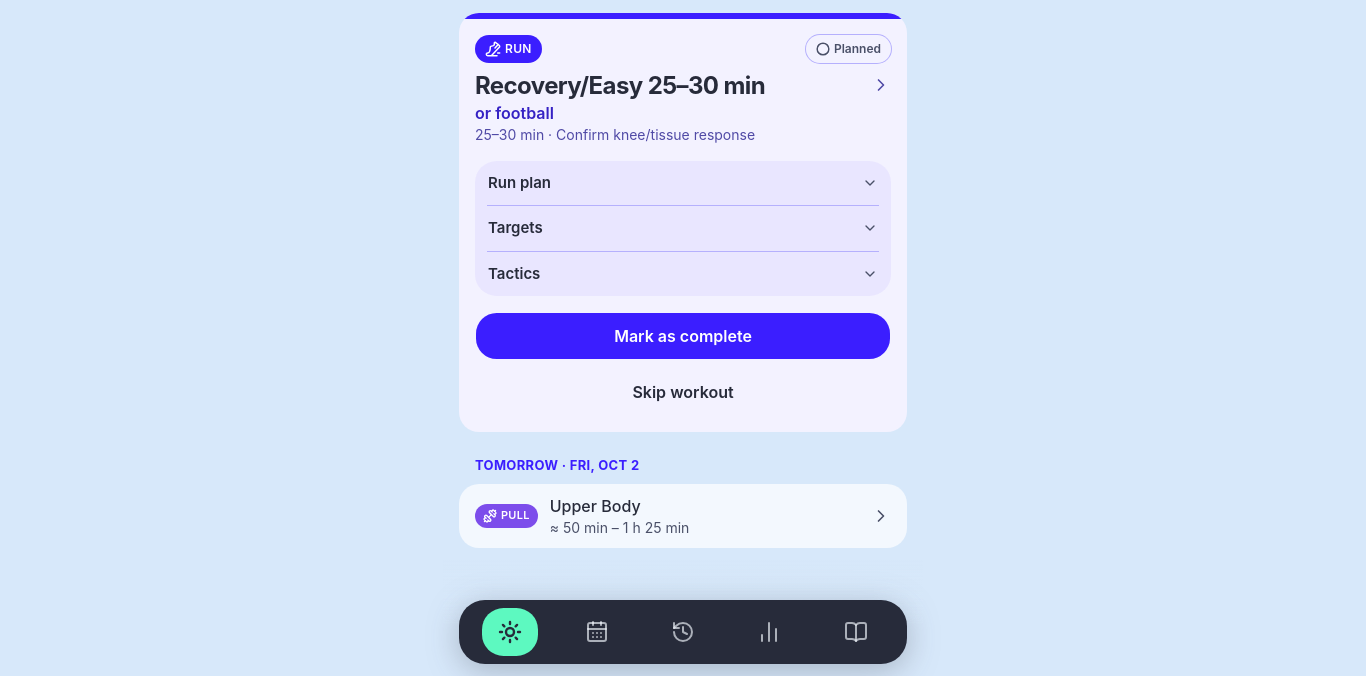
Test case: Today › records football from the Thursday run form and shows the run as replaced
(page scrolled)
Click the button "Mark as complete" below "25–30 min · Confirm knee/tissue response".
click(683, 336)  # box [475,312,891,360]
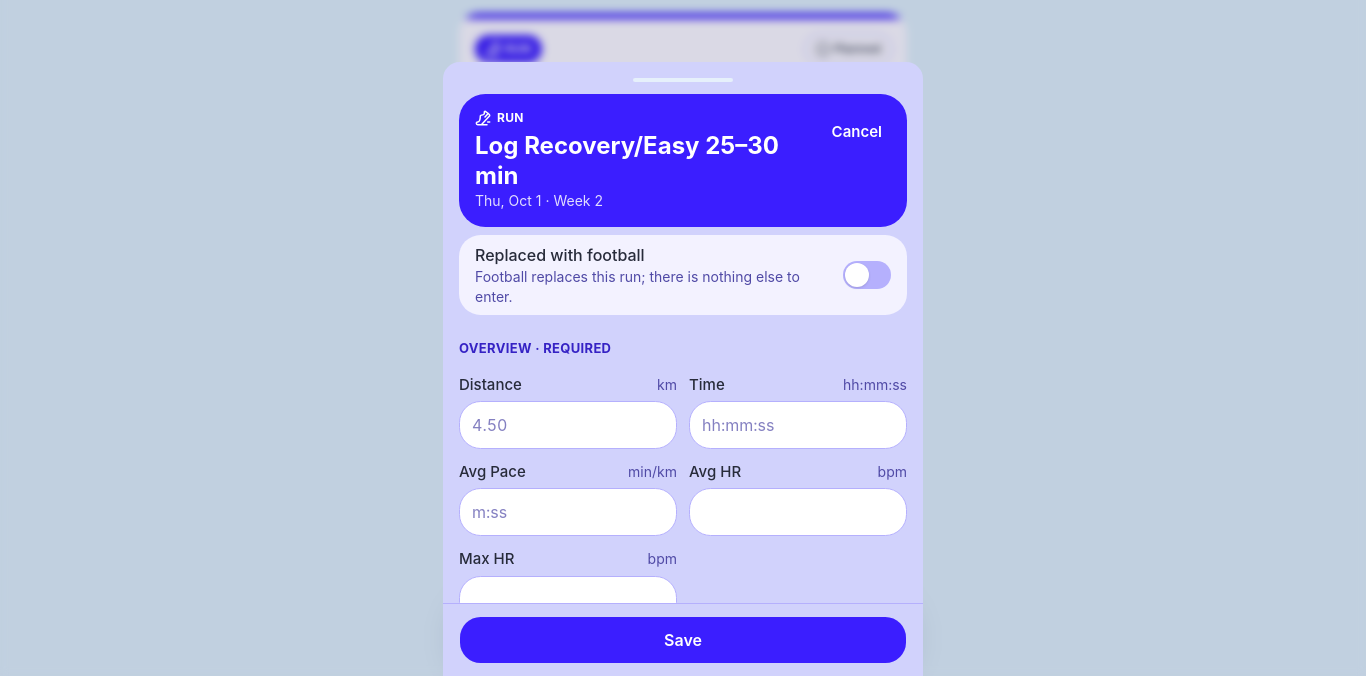
Click the switch labelled "Replaced with football".
click(683, 275)  # box [459,235,907,315]
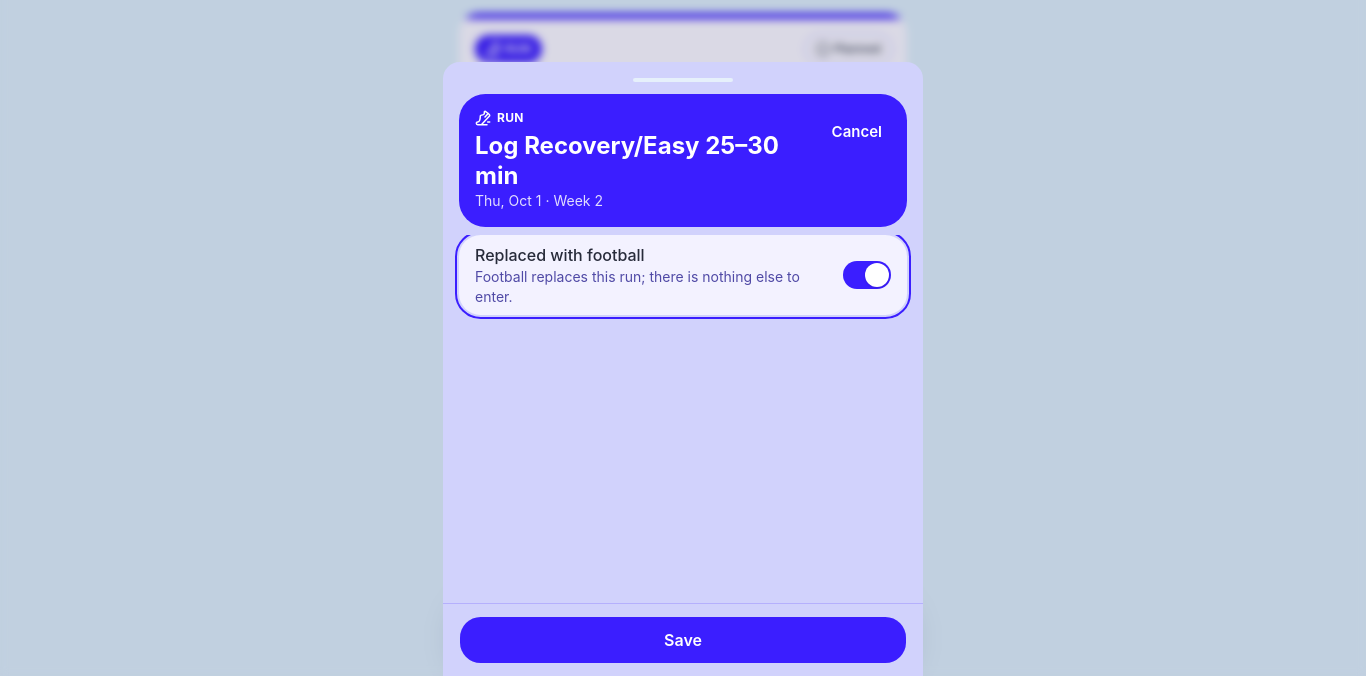
Result: the text labelled "Distance" is gone
Click the button "Save".
click(683, 640)  # box [459,616,907,664]
(page scrolled)
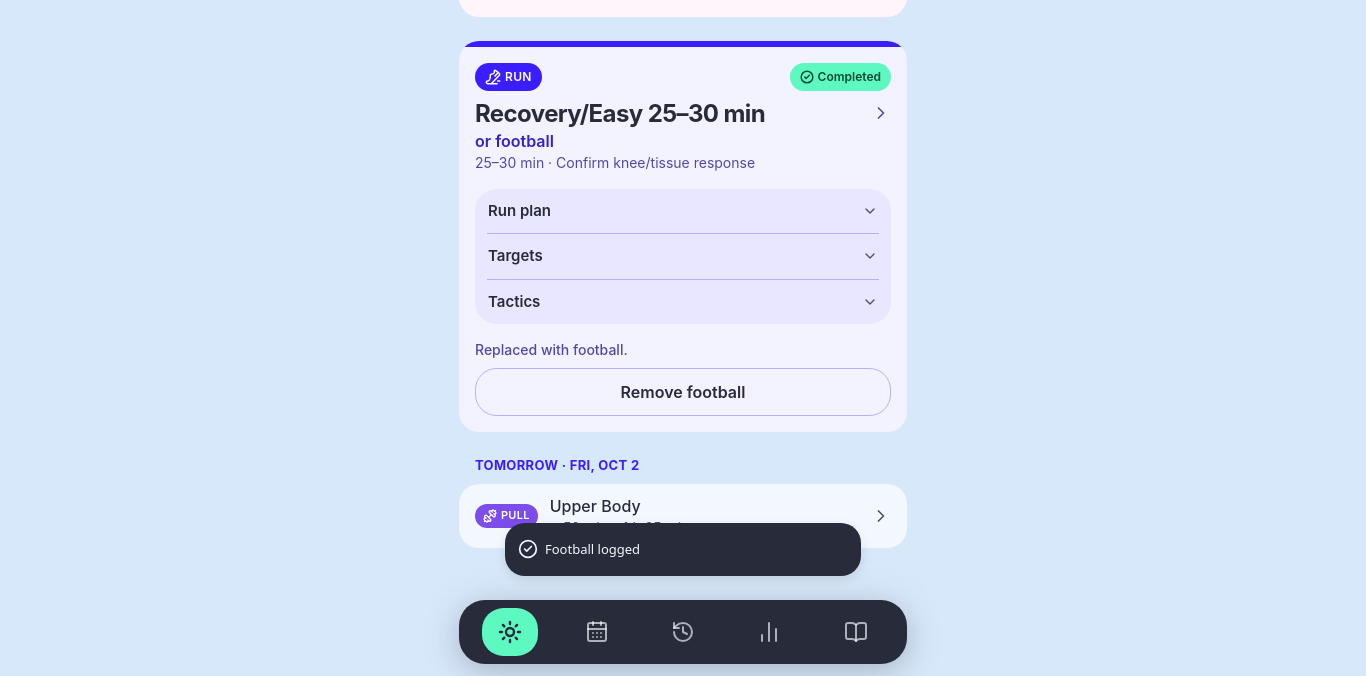
Result: the text "Replaced with football." is shown at [475,341,628,358]
Result: the text "Completed" is shown at [790,62,891,90]
